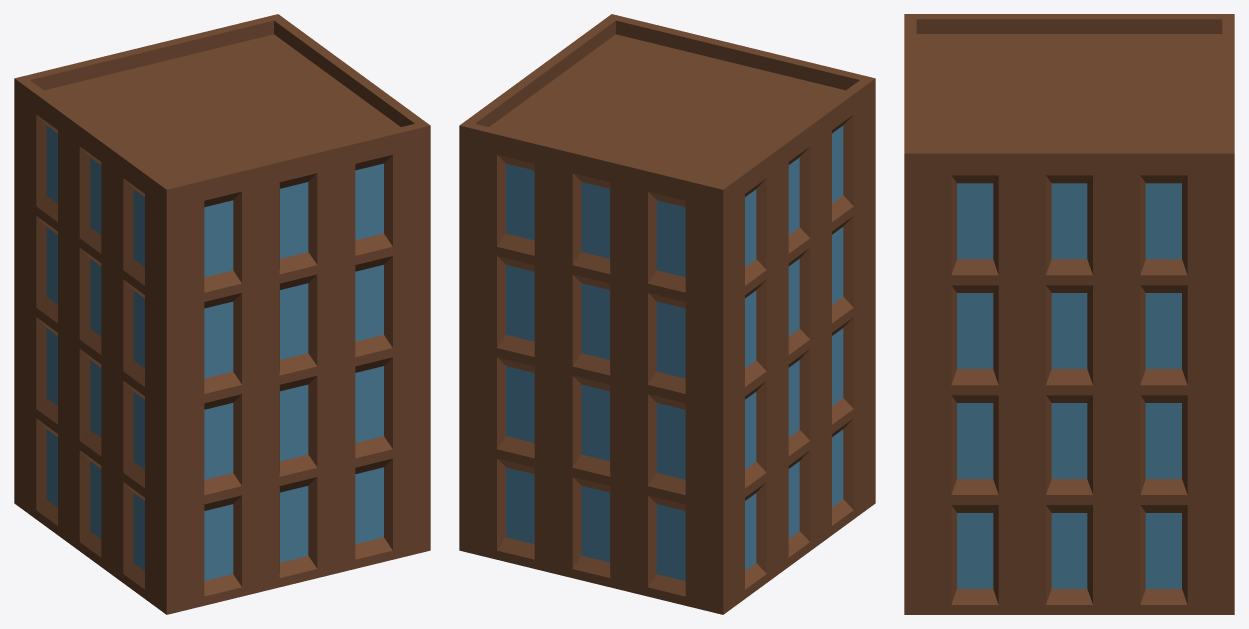
Rendered from Building one.fbx.
3 views of the same model, side by side, from view 1: azimuth 30°, elevation 25°; view 2: azimuth 150°, elevation 25°; view 3: azimuth 270°, elevation 25° (orthographic). The views are drawn at different scales.
Visible parts, largest first — view 1: polySurface18; view 2: polySurface18; view 3: polySurface18.
Boxes of the visible parts, x1=… form: polySurface18: x1=14, y1=14, x2=430, y2=614; polySurface18: x1=459, y1=14, x2=875, y2=614; polySurface18: x1=904, y1=14, x2=1234, y2=614.
Size of the model in its own units: 283 by 436 by 283.
